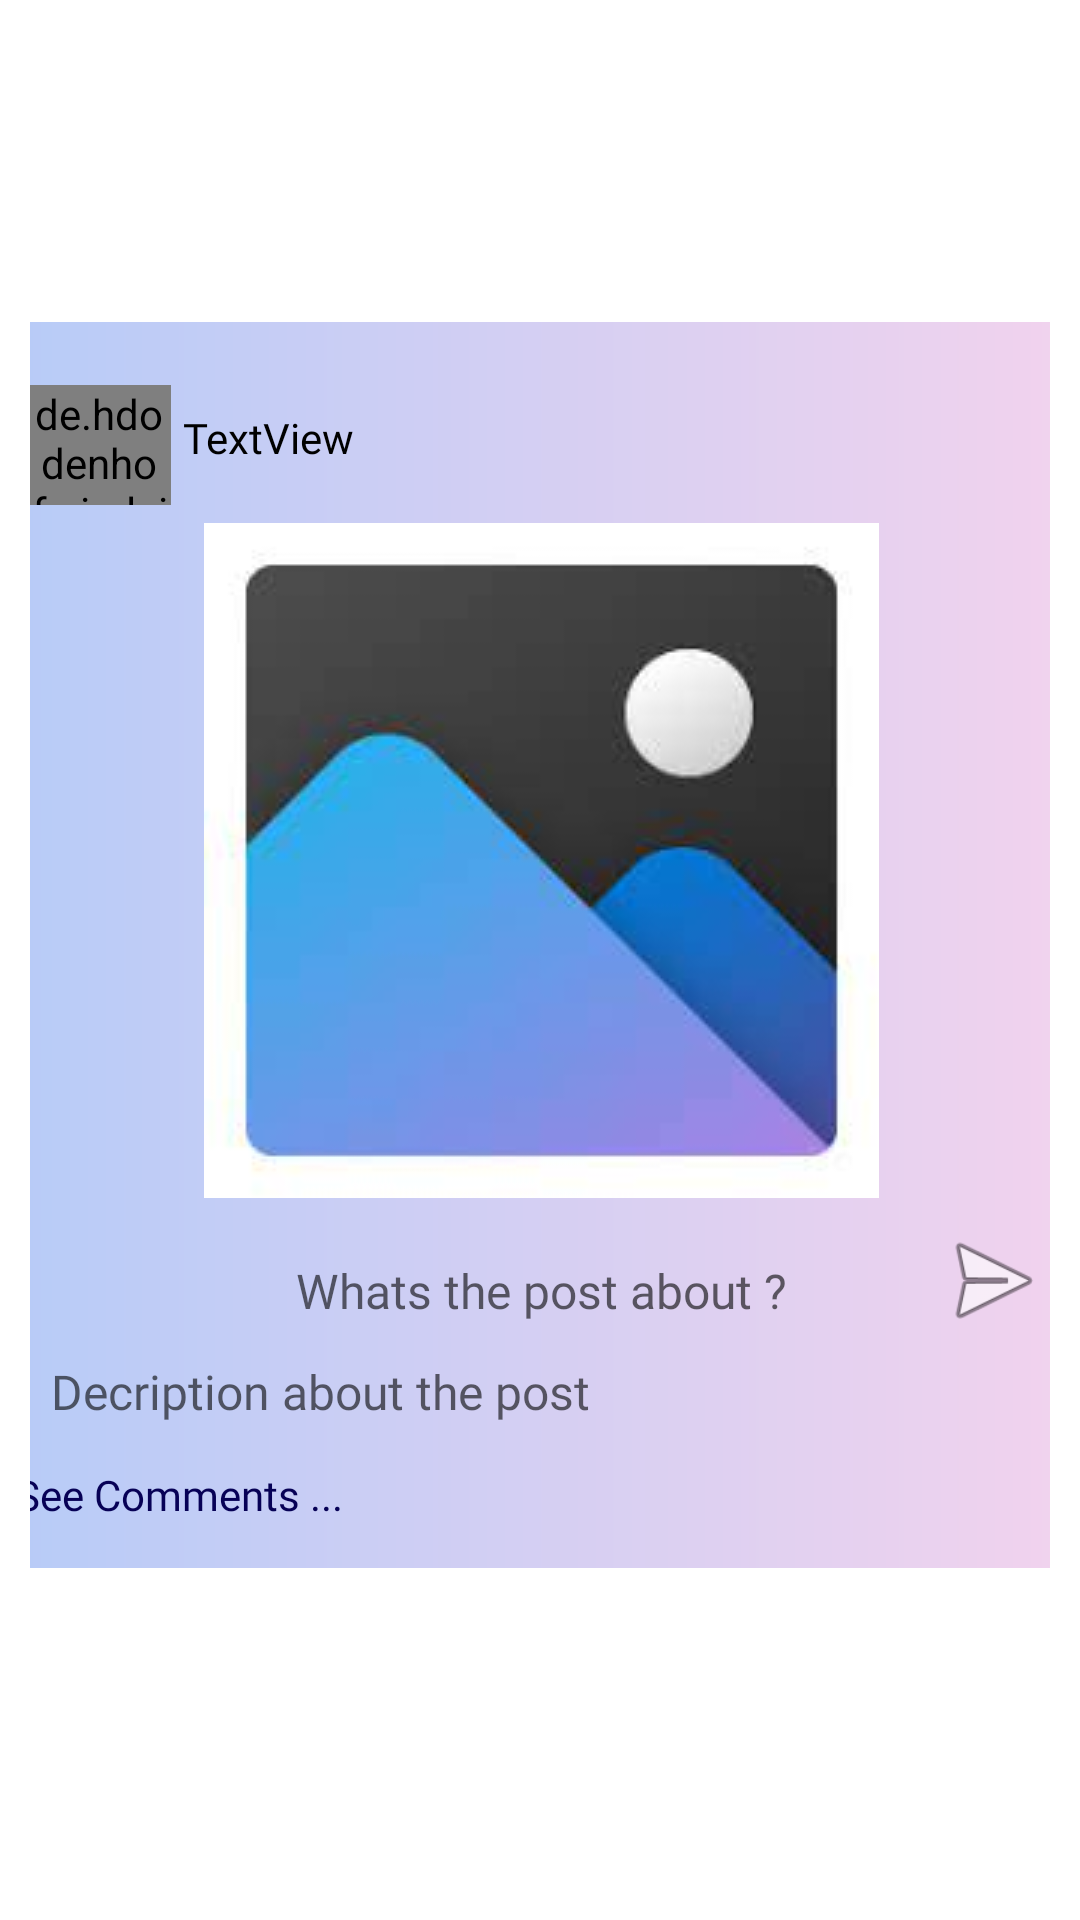

Icons on this 1080×1920 Android screen, each with the point to tap as (x=x, y=y):
send: (x=994, y=1281)
